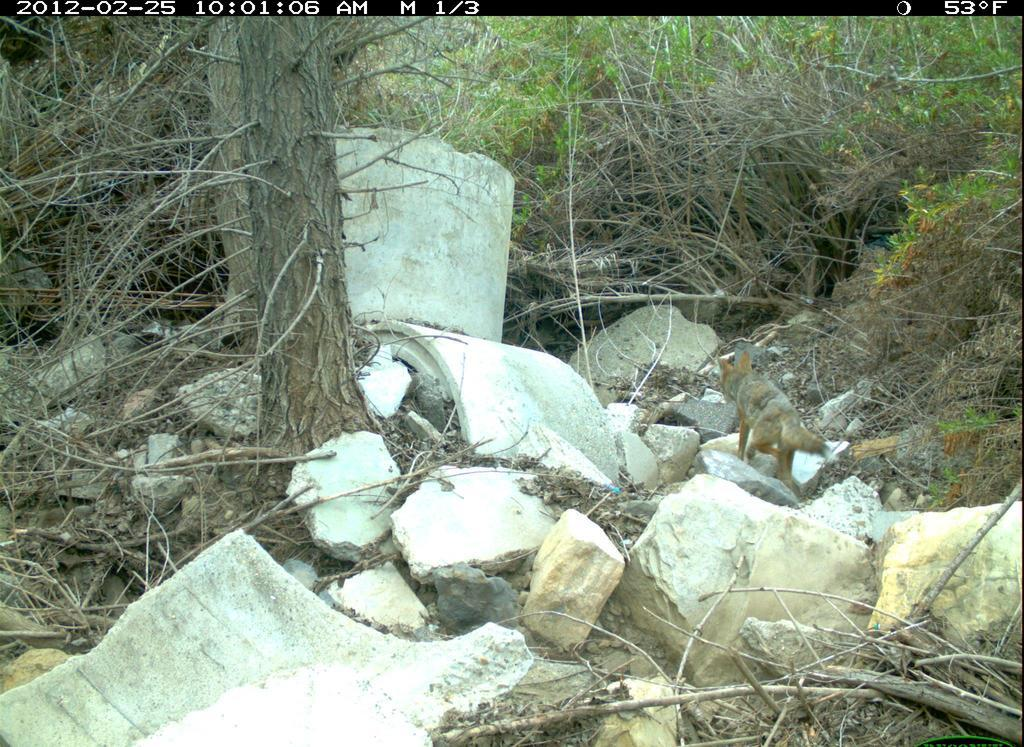coyote: (713, 347, 841, 495)
